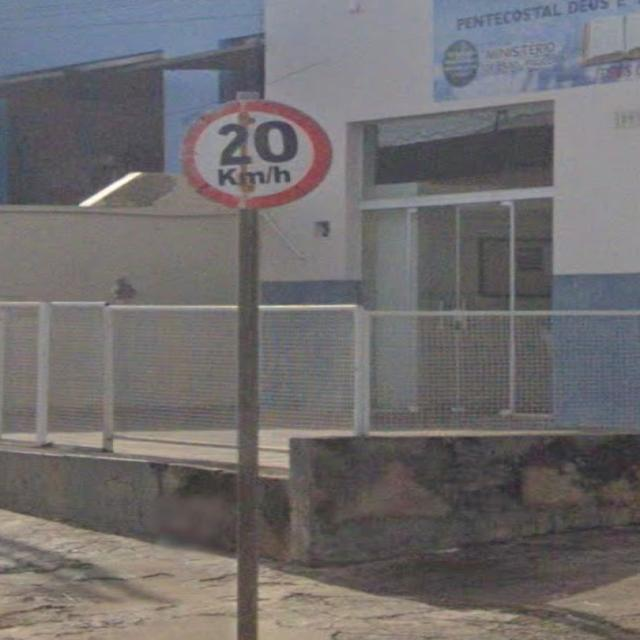speed limit: (157, 74, 340, 224)
